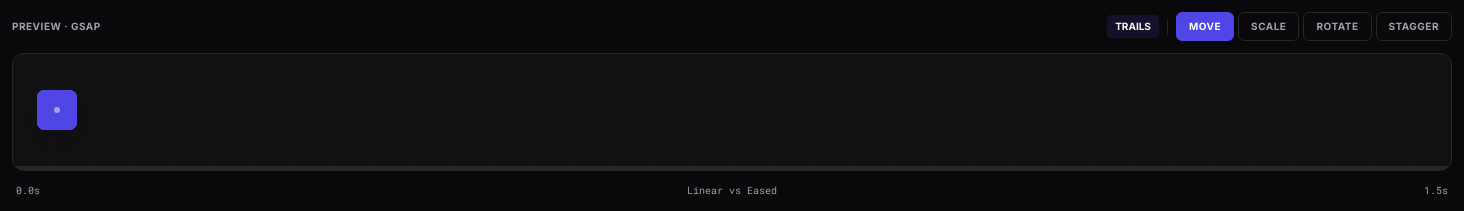
Test: AnimationPreview › cambia de modo de preview y oculta el control de trails fuera de Move
Expected: the button "Trails" is shown, [1107,15,1159,38]
Click the button "Rotate".
click(1338, 26)  # box [1304,12,1372,41]
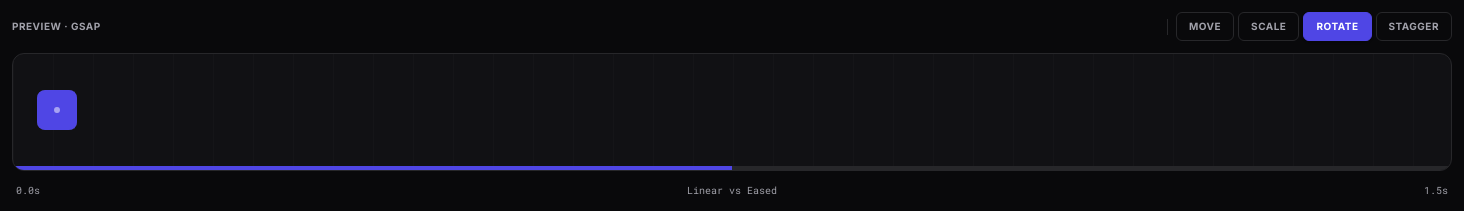
Expected: the button "Trails" is gone
